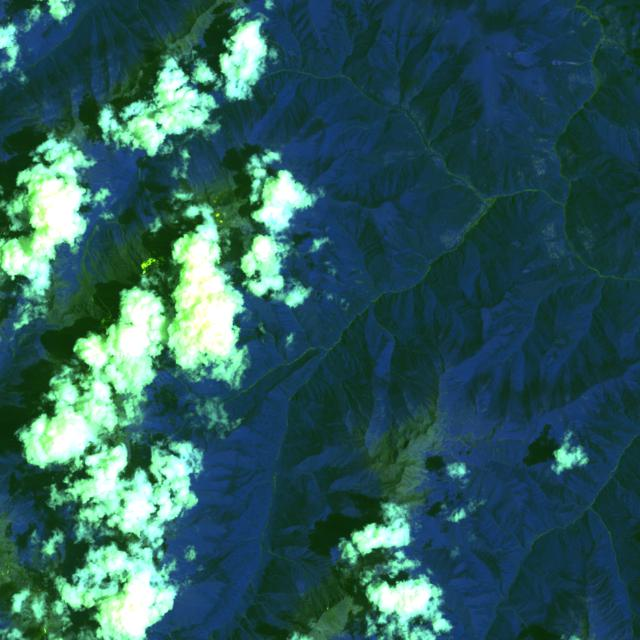landslides: (552, 59, 592, 66), (227, 38, 238, 58), (367, 51, 376, 69), (518, 172, 526, 189)
